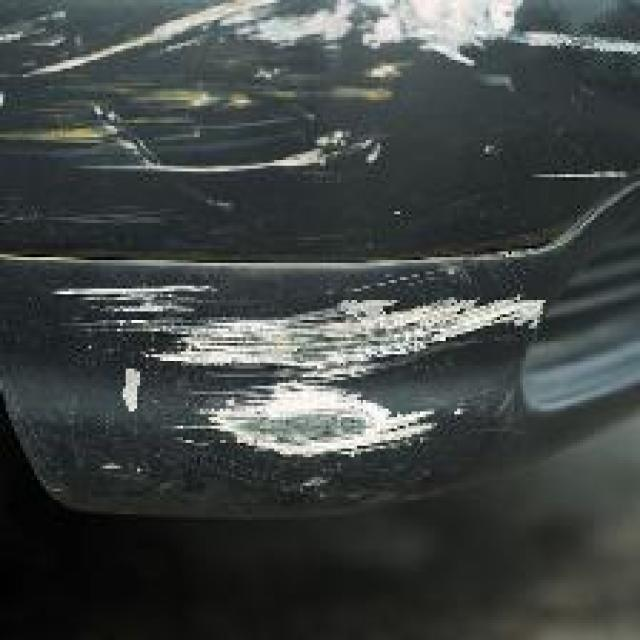damaged: (51, 257, 563, 489)
